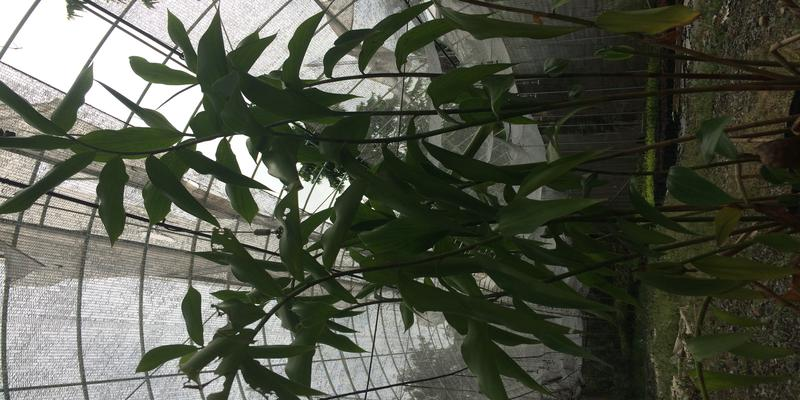Insulin: (153, 54, 784, 311)
